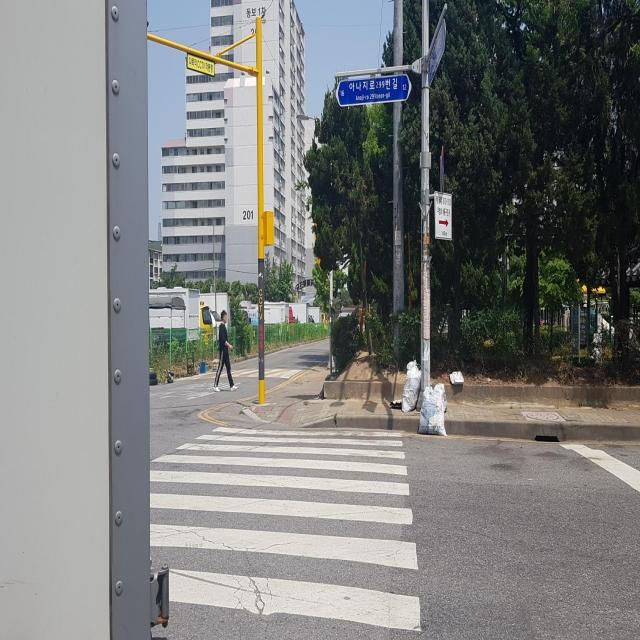횡단보도: (148, 423, 422, 634)
